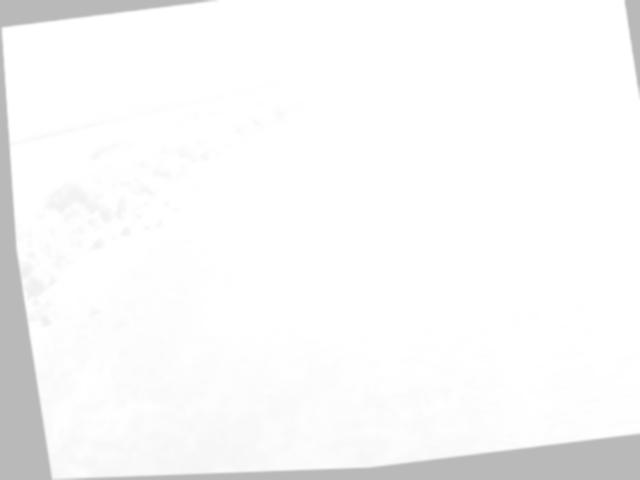hedef: (309, 219, 393, 267)
